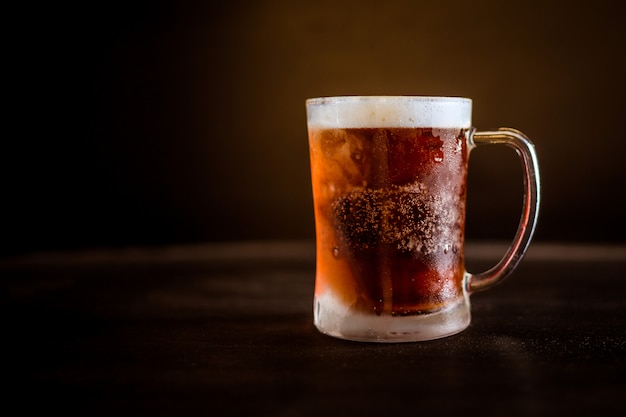alcohol: (301, 96, 542, 343)
